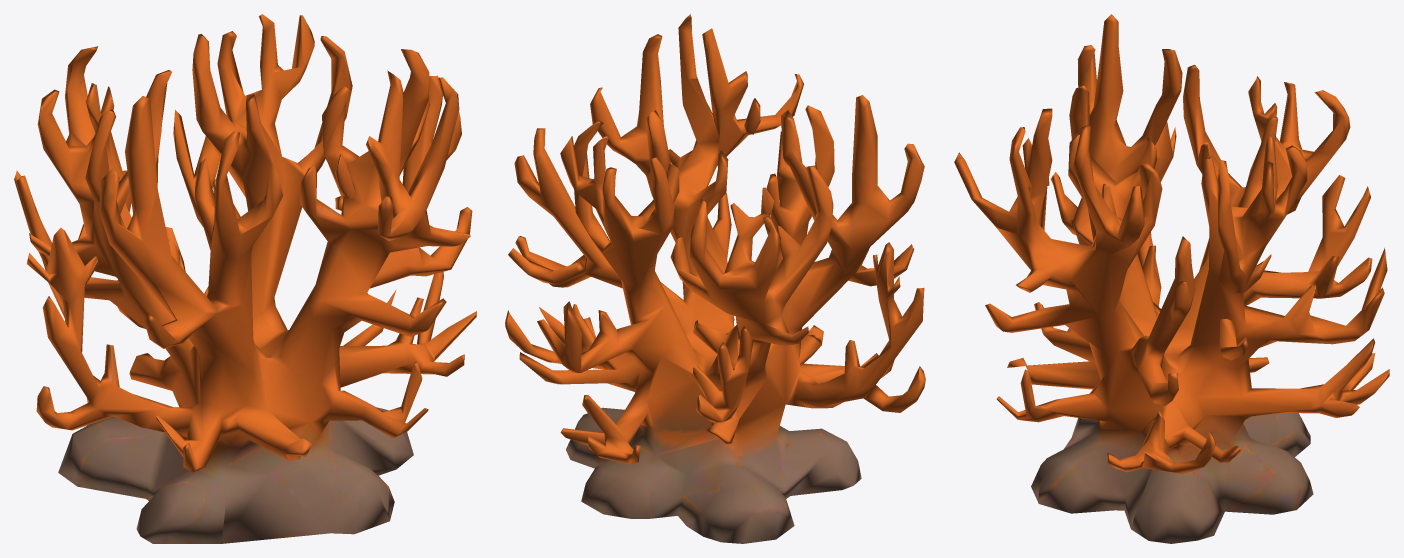
The picture shows the model from 3 angles, left to right: view 1: azimuth 30°, elevation 25°; view 2: azimuth 150°, elevation 25°; view 3: azimuth 270°, elevation 25°; orthographic projection. The views are drawn at different scales.
Size of the model in its own units: 1.89 by 1.79 by 1.77.
1 material, 1 textured.
